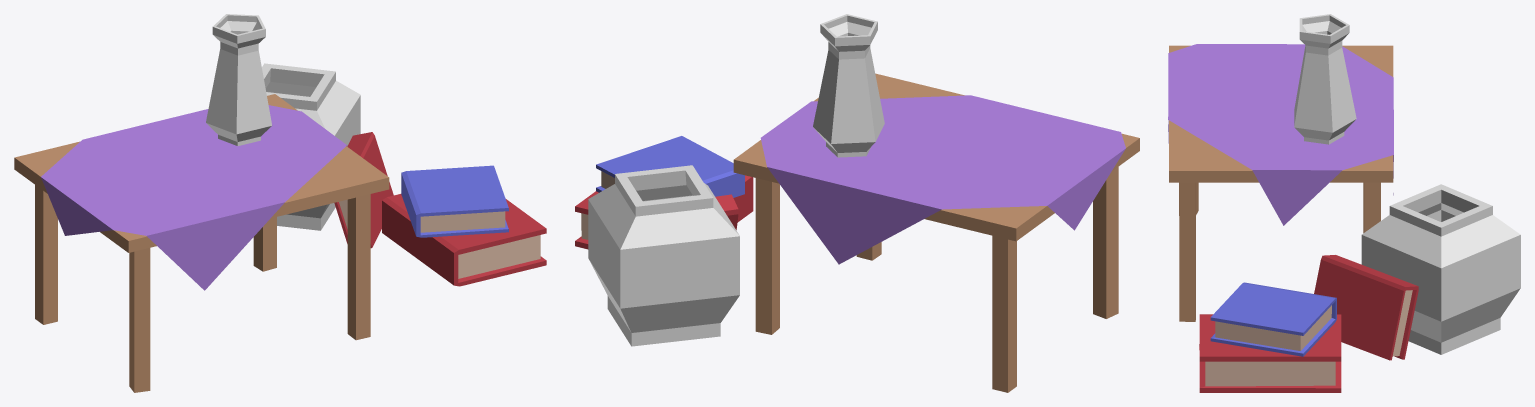
Rendered from 营地组合1.fbx.
The picture shows the model from 3 angles, left to right: view 1: azimuth 30°, elevation 25°; view 2: azimuth 150°, elevation 25°; view 3: azimuth 270°, elevation 25°; orthographic projection. The views are drawn at different scales.
Visible parts, largest first — view 1: 瘦罐子; view 2: 瘦罐子; view 3: 瘦罐子.
Boxes of the visible parts, left/top/right/bottom form: 瘦罐子: left=14, top=14, right=546, bottom=392; 瘦罐子: left=575, top=14, right=1139, bottom=392; 瘦罐子: left=1168, top=14, right=1520, bottom=392.
Size of the model in its own units: 128 by 76.79 by 91.26.
